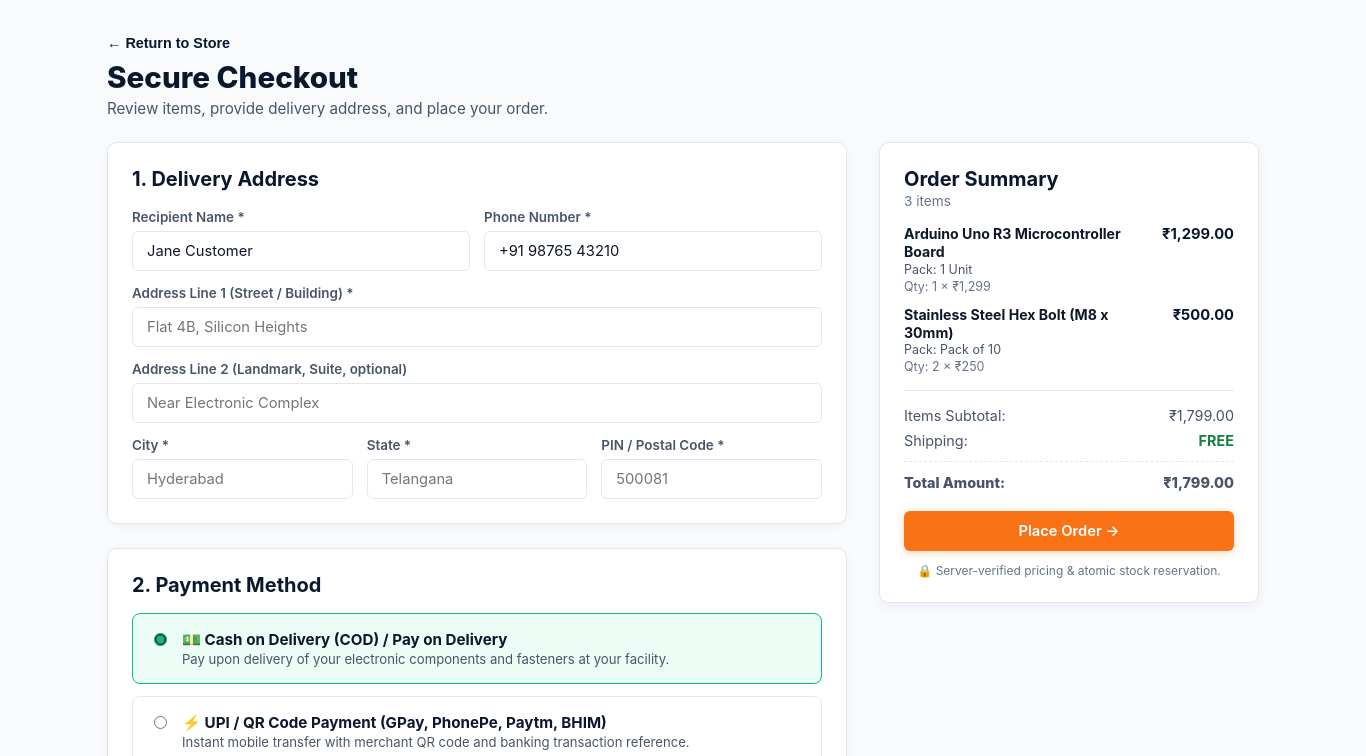
Test: CheckoutPage Component Suite › 5. Validates new address form inputs when no saved address is used
Expected: the field with test id "input-address-line1" is shown, [132, 307, 822, 347]
Click the button with test id "place-order-btn": point(1069, 531) [904, 511, 1234, 551]
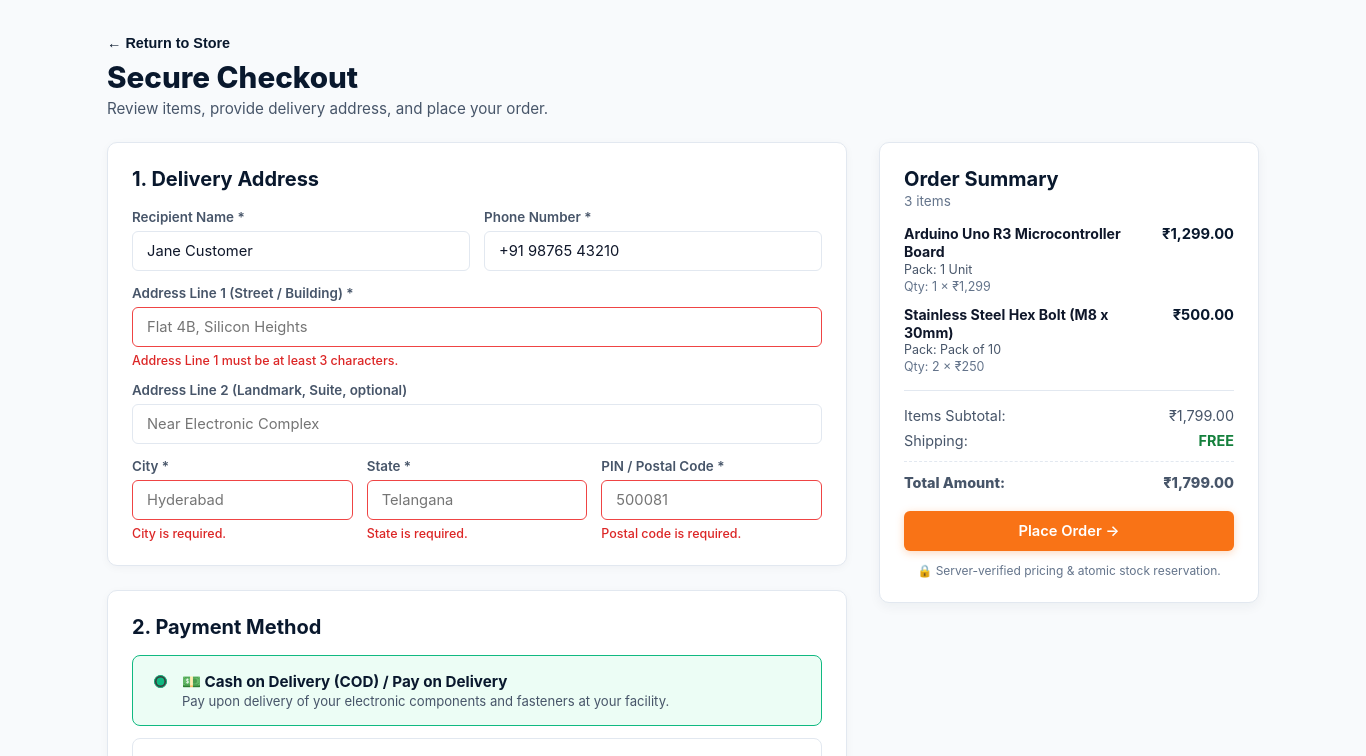
Result: the text "Address Line 1 must be at least 3 characters." is shown at [132, 353, 398, 368]
Result: the text "City is required." is shown at [132, 526, 226, 541]
Result: the text "Postal code is required." is shown at [601, 526, 741, 541]
